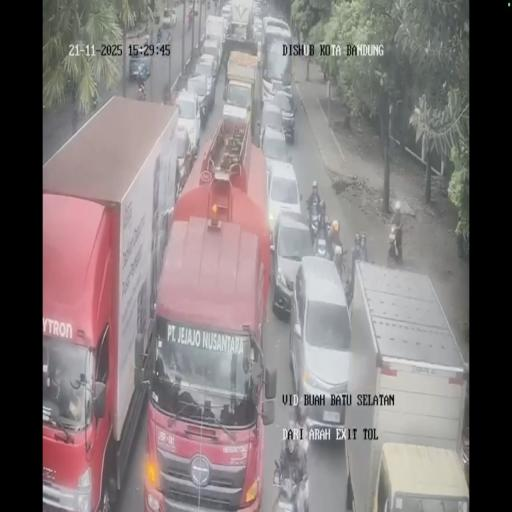3: (337, 259, 467, 510), (128, 40, 150, 80)
car: (271, 208, 314, 318), (258, 101, 288, 157), (186, 72, 212, 124), (171, 122, 191, 189), (262, 16, 292, 60), (200, 38, 221, 77), (252, 17, 264, 46), (220, 2, 232, 29), (161, 8, 177, 28), (252, 0, 262, 18), (188, 0, 199, 15)
truck: (331, 241, 346, 281), (156, 28, 162, 46)
